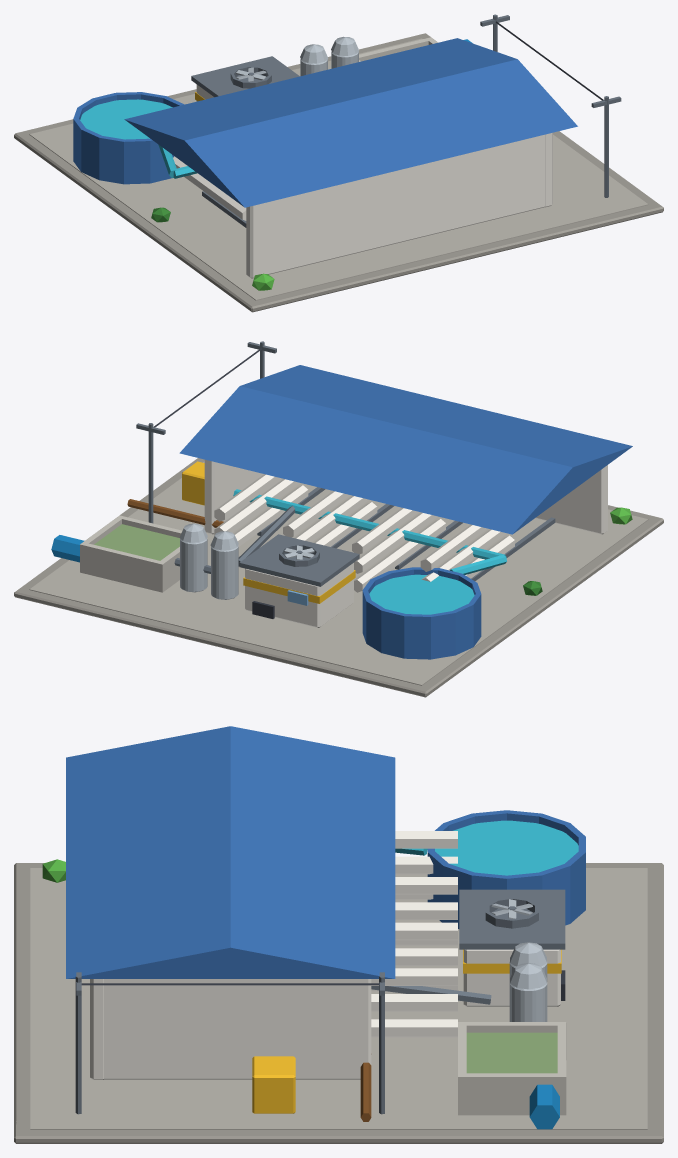
File: desalination_plant.glb
3 renders of one model, top to bottom at view 1: azimuth 30°, elevation 25°; view 2: azimuth 150°, elevation 25°; view 3: azimuth 270°, elevation 25°, orthographic. The views are drawn at different scales.
Visible parts, largest first — view 1: corpo; view 2: corpo; view 3: corpo.
Boxes of the visible parts, bbox=[...] form: corpo: bbox=[14, 14, 663, 312]; corpo: bbox=[14, 341, 663, 697]; corpo: bbox=[14, 726, 663, 1143].
Size of the model in its own units: 6 by 1.65 by 6.
